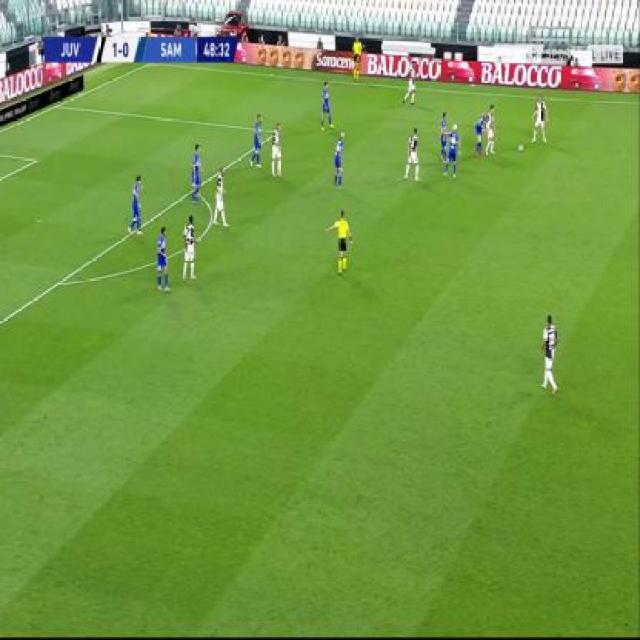ball: (517, 141, 525, 154)
player: (538, 311, 560, 394), (328, 210, 353, 276), (155, 222, 172, 293), (127, 173, 144, 239), (404, 125, 423, 184), (181, 214, 197, 283), (212, 165, 229, 228), (530, 93, 549, 144), (445, 121, 461, 180), (482, 102, 498, 158), (248, 113, 264, 169), (439, 110, 453, 173), (269, 120, 283, 179), (332, 130, 346, 189), (191, 142, 204, 204), (320, 78, 334, 131), (403, 64, 417, 106), (351, 37, 364, 80), (475, 110, 486, 156)
